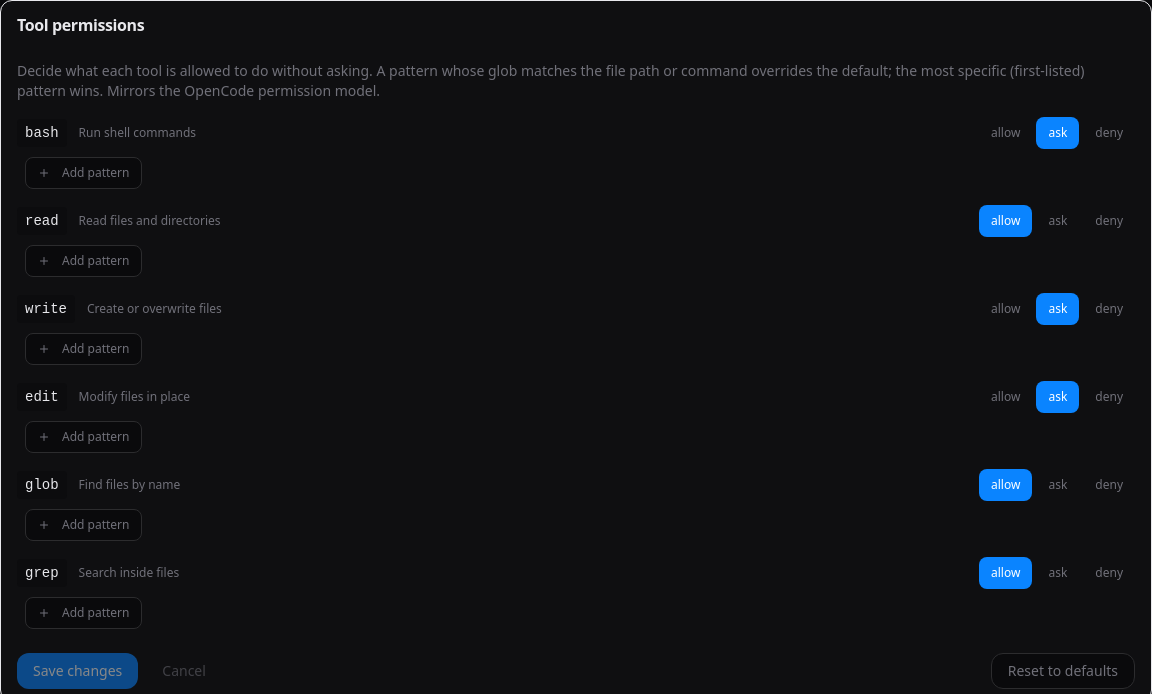
Test: PermissionsMatrix › adding a pattern row exposes input + action select
Click the button with test id "perms-add-write" at (84, 349), box [25,333,142,365]
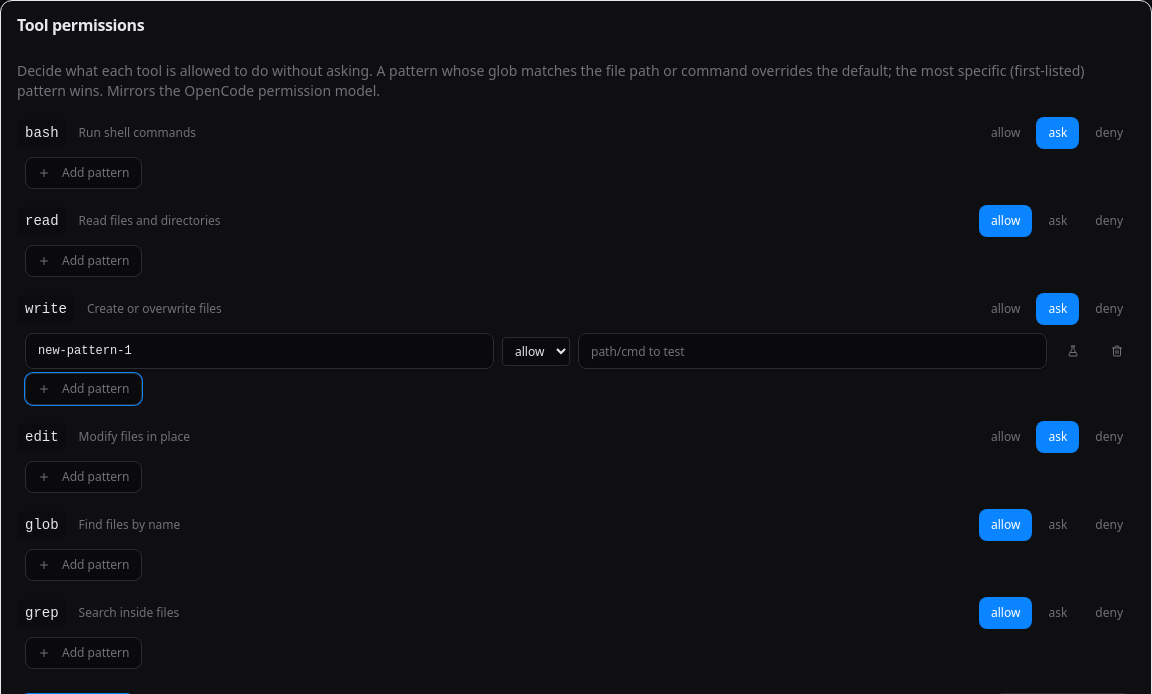
Expected: the field with test id "^perms-pattern-write-input$" is shown, [25,333,494,369]
